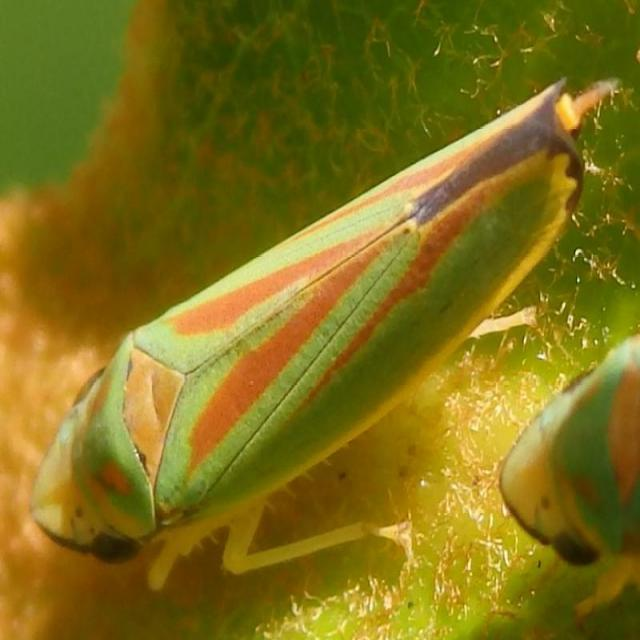Yechan: (30, 74, 620, 598)
